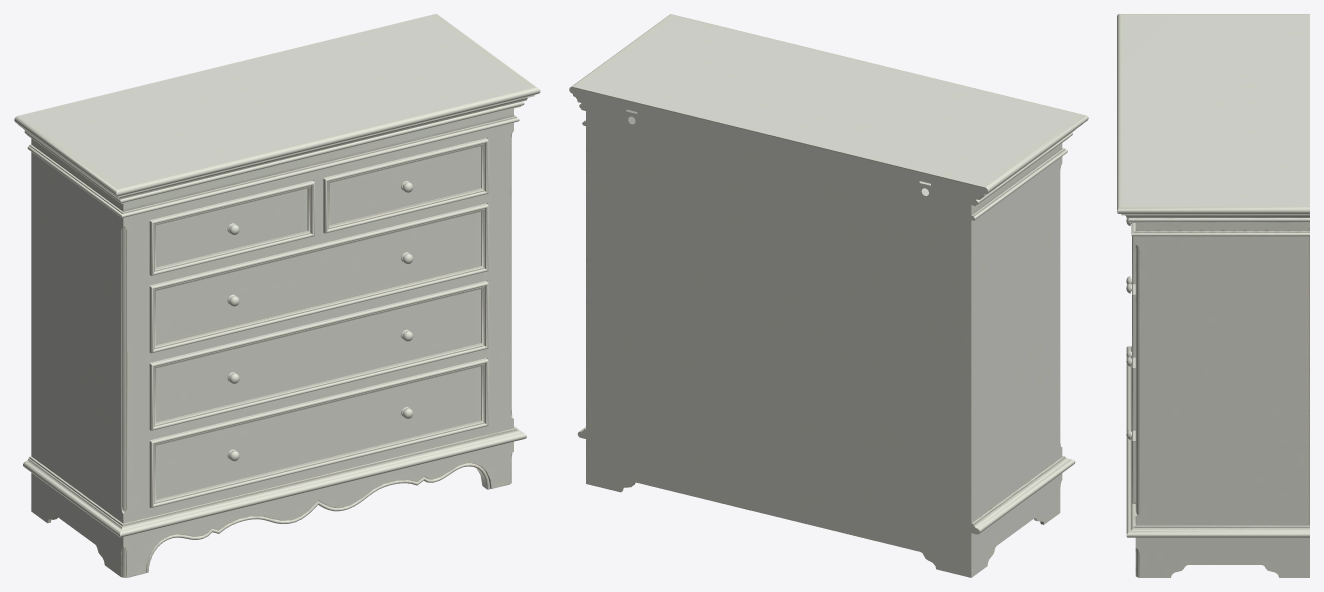
File: example136.glb
3 renders of one model, left to right at view 1: azimuth 30°, elevation 25°; view 2: azimuth 150°, elevation 25°; view 3: azimuth 270°, elevation 25°, orthographic. The views are drawn at different scales.
Visible parts, largest first — view 1: Buffer Layer; view 2: Buffer Layer; view 3: Buffer Layer.
Boxes of the visible parts, <box> form: Buffer Layer: <box>14,14,540,577</box>; Buffer Layer: <box>569,14,1088,577</box>; Buffer Layer: <box>1117,14,1309,577</box>.
Bounding box in the file's own units: 1.12 × 1.01 × 0.4658.
2 materials, 1 textured.
